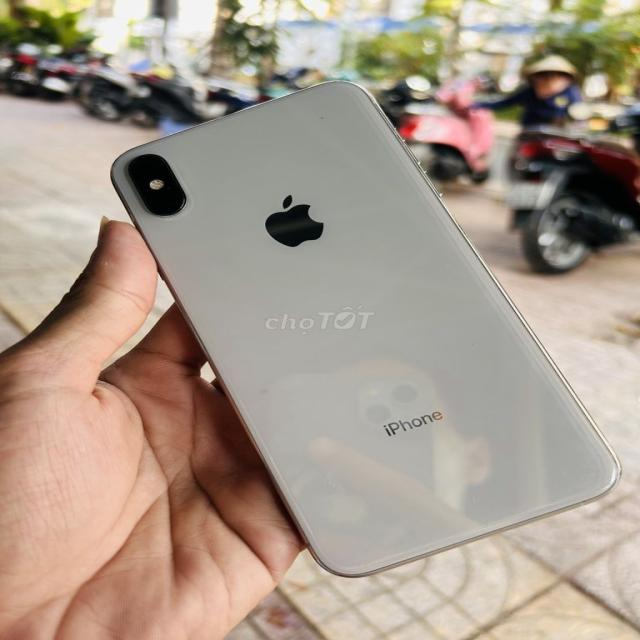scratch: (312, 110, 334, 129)
